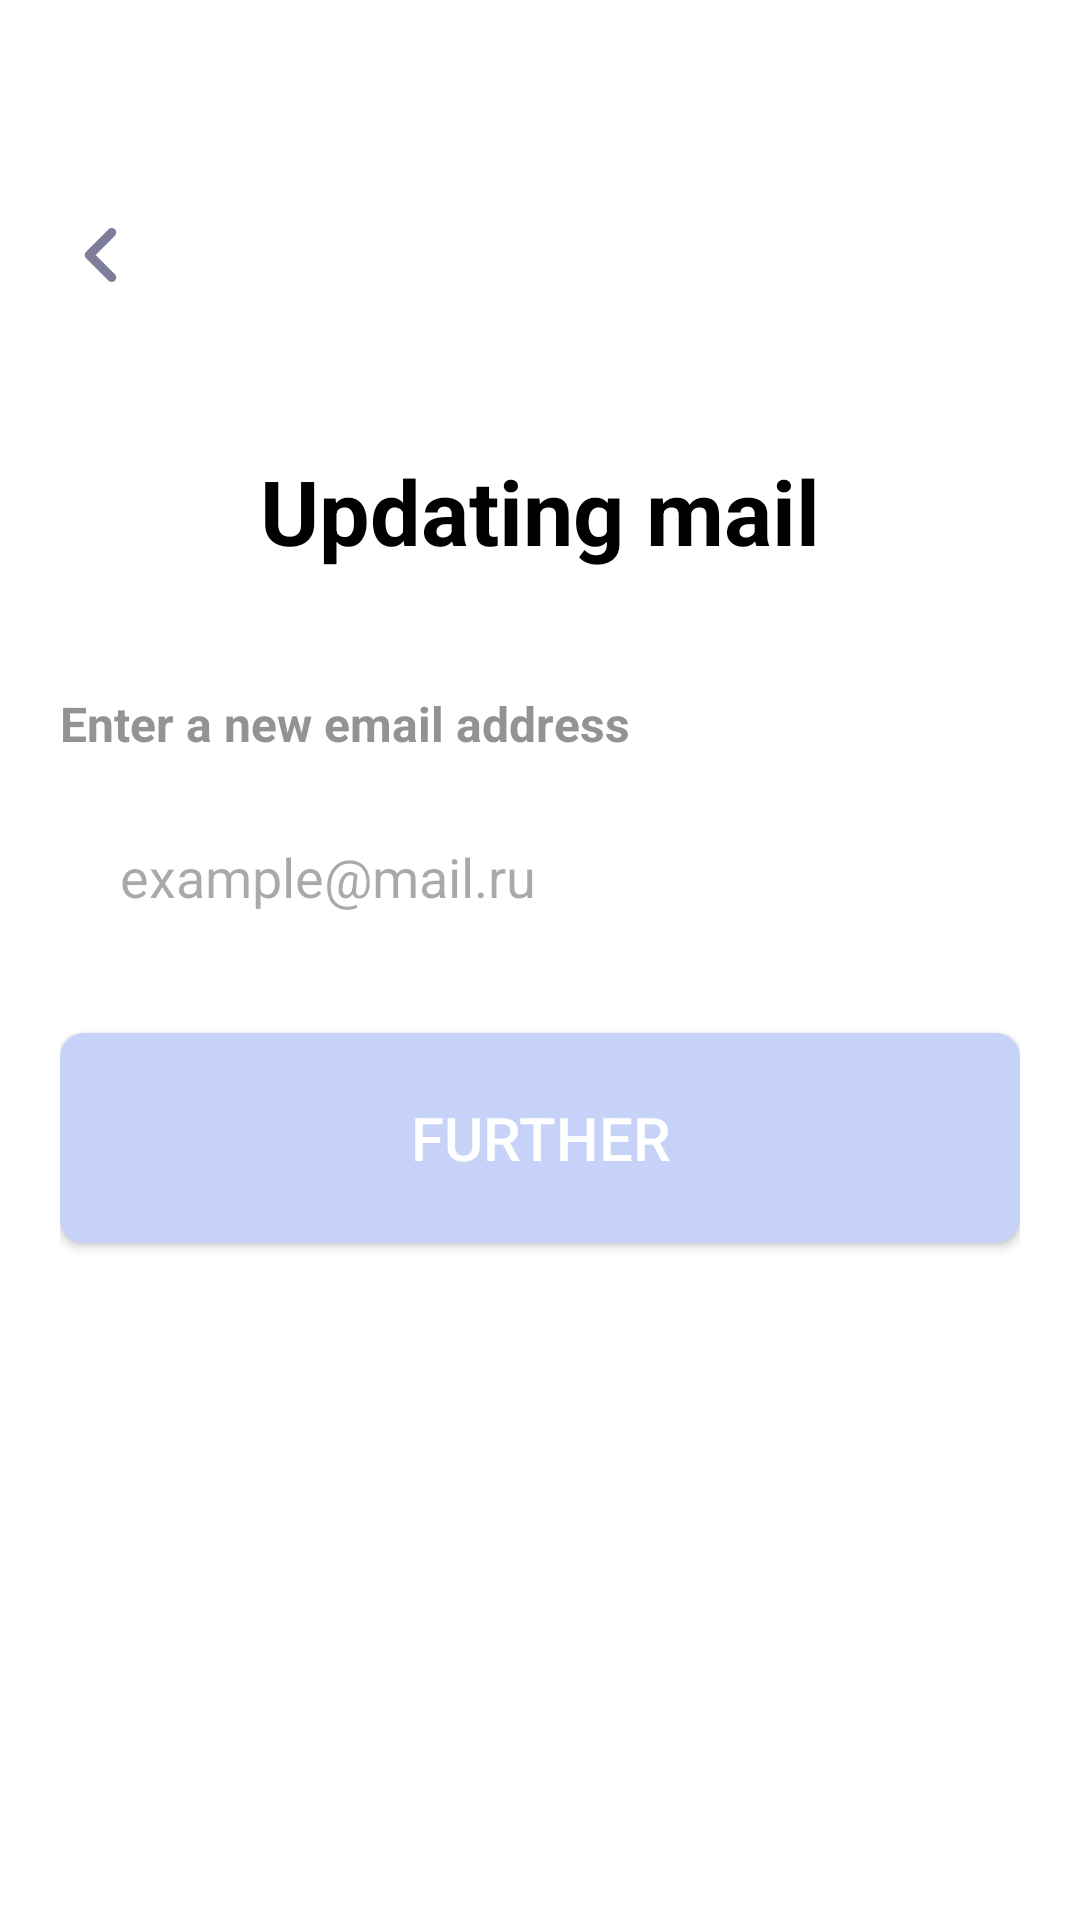

Where to tap for icons on this 1080 × 1920 app screen, as [x,y]:
arrow: [101,255]
